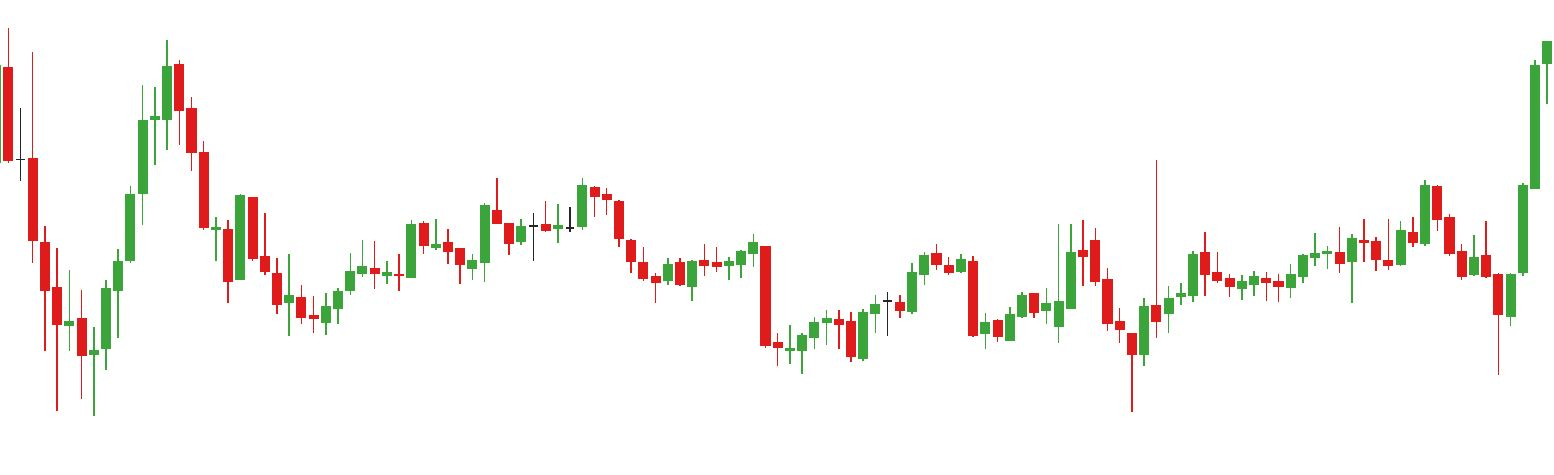buy: (1346, 205, 1519, 385), (981, 274, 1152, 433)
sell: (25, 35, 187, 267)
